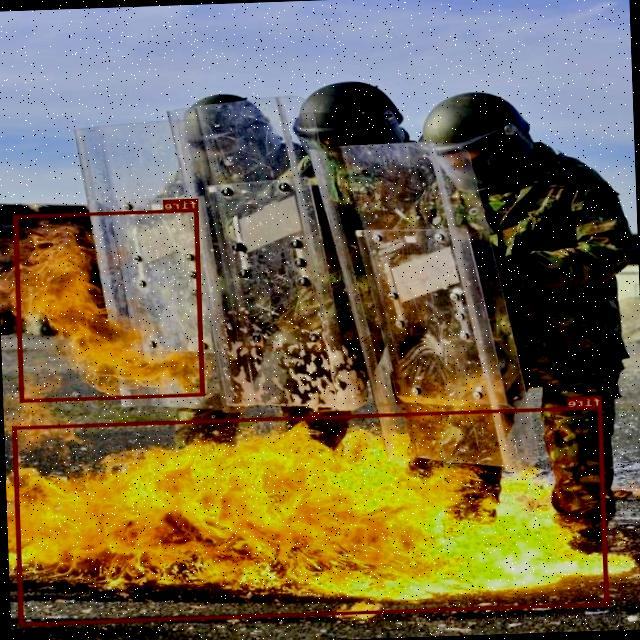fire: (13, 405, 610, 625), (14, 208, 206, 402)
